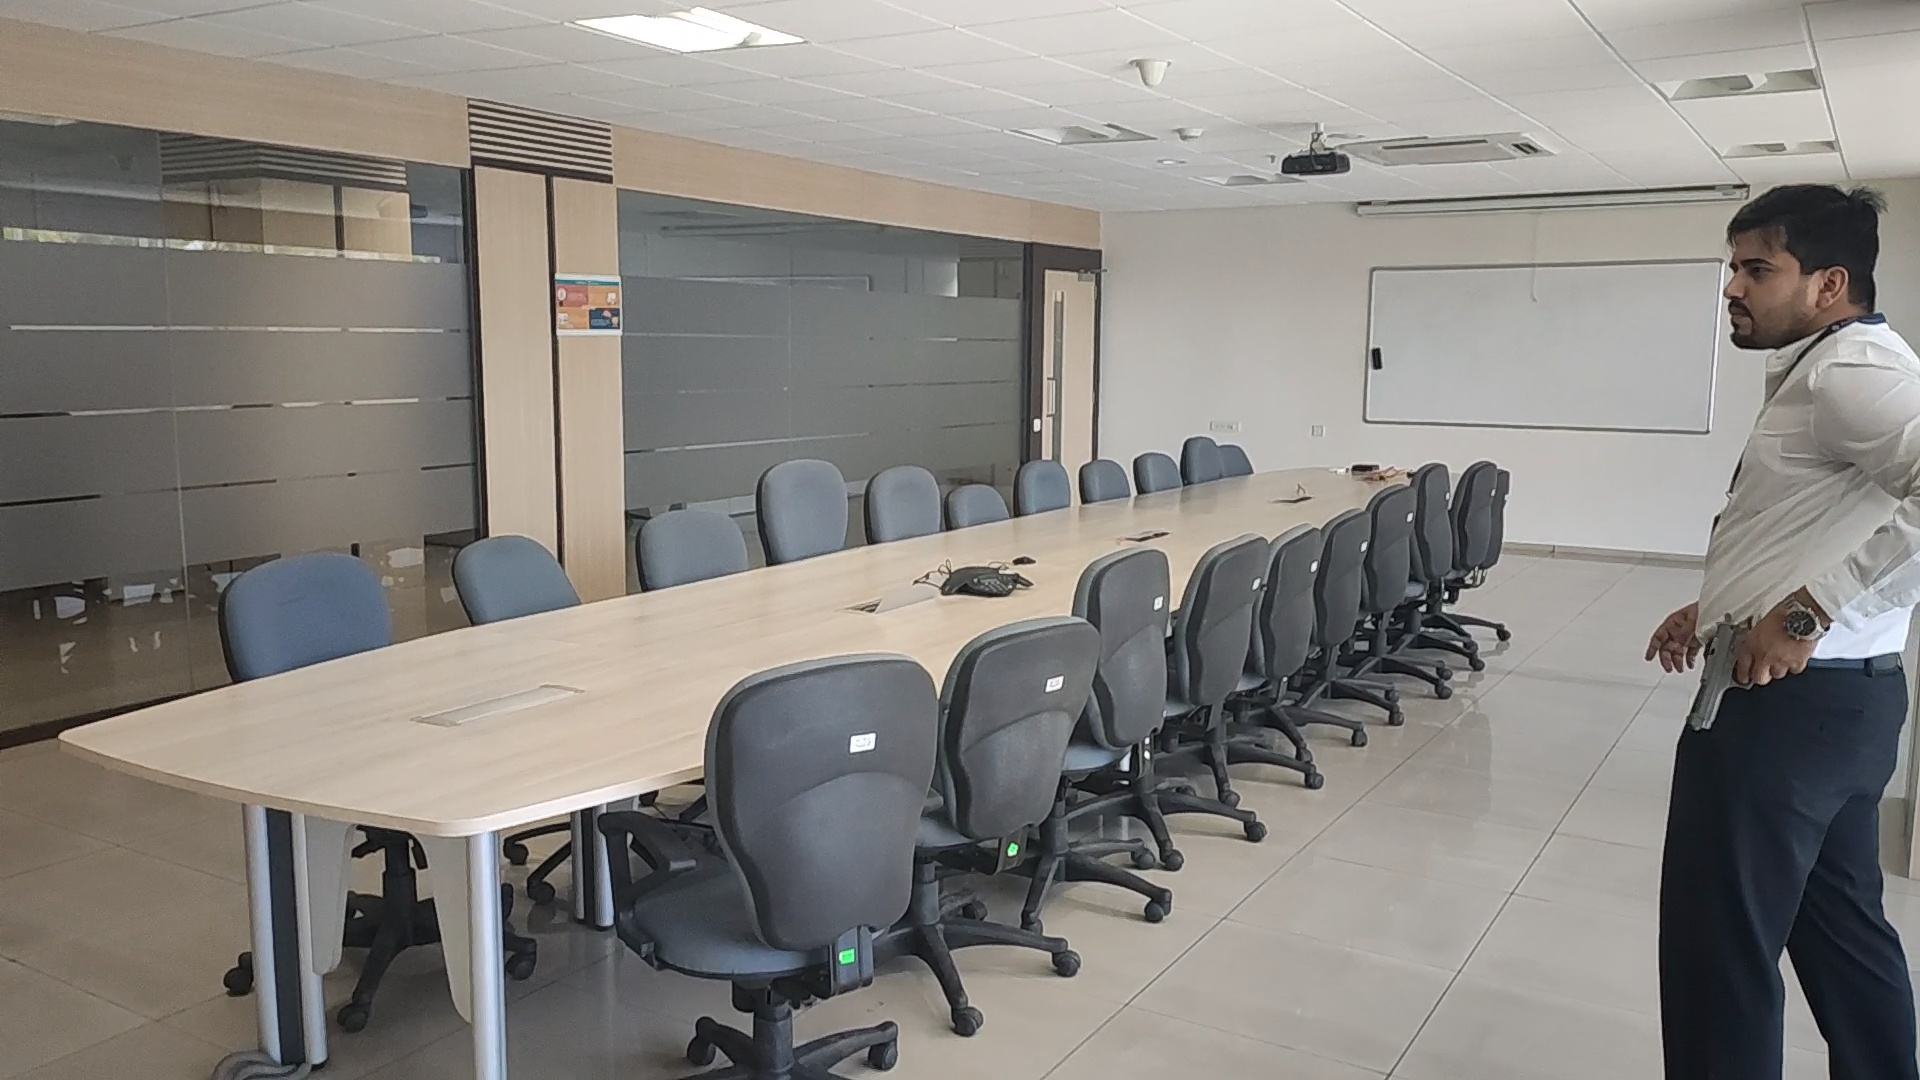gun: (1684, 622, 1755, 731)
